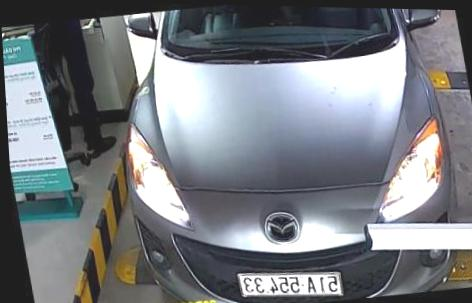License_Plate: (232, 264, 347, 302)
